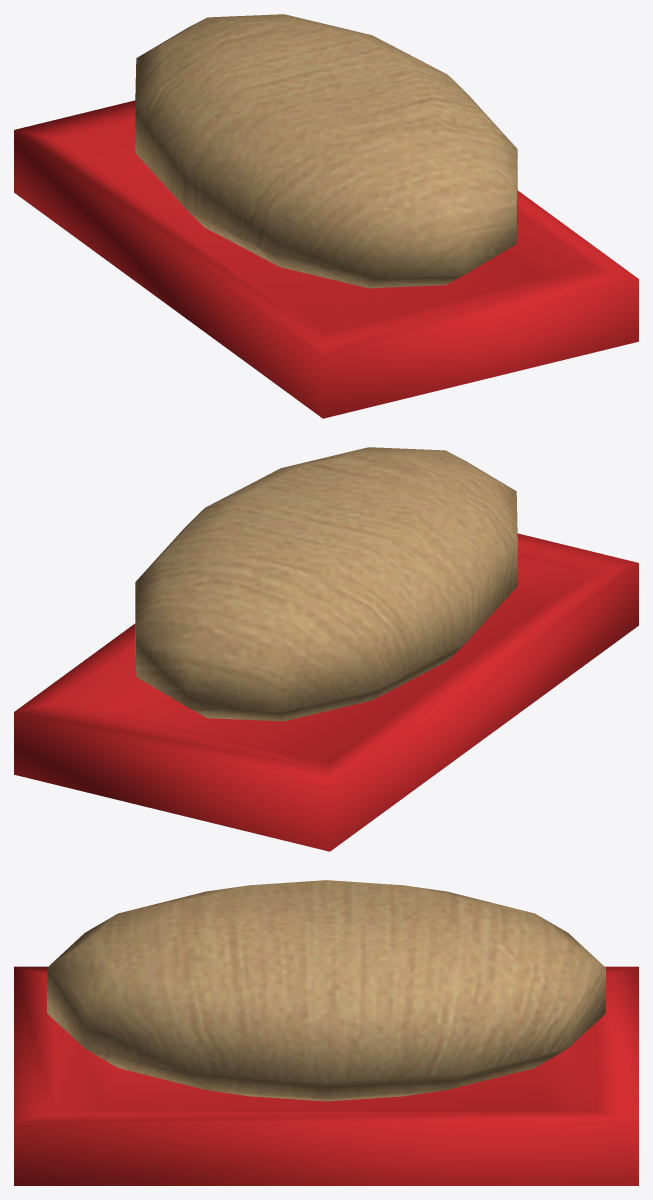
Rendered from MOD_PRO_Hand_soap_01.fbx.
The picture shows the model from 3 angles, top to bottom: view 1: azimuth 30°, elevation 25°; view 2: azimuth 150°, elevation 25°; view 3: azimuth 270°, elevation 25°; orthographic projection.
Visible parts, largest first — view 1: HSHP_MOD_Hand_soap; view 2: HSHP_MOD_Hand_soap; view 3: HSHP_MOD_Hand_soap.
Boxes of the visible parts, x1,y1,x2,y2 form: HSHP_MOD_Hand_soap: (14, 14, 638, 418); HSHP_MOD_Hand_soap: (14, 447, 638, 851); HSHP_MOD_Hand_soap: (14, 880, 638, 1185).
Bounding box in the file's own units: 0.0766 × 0.0434 × 0.1298.
